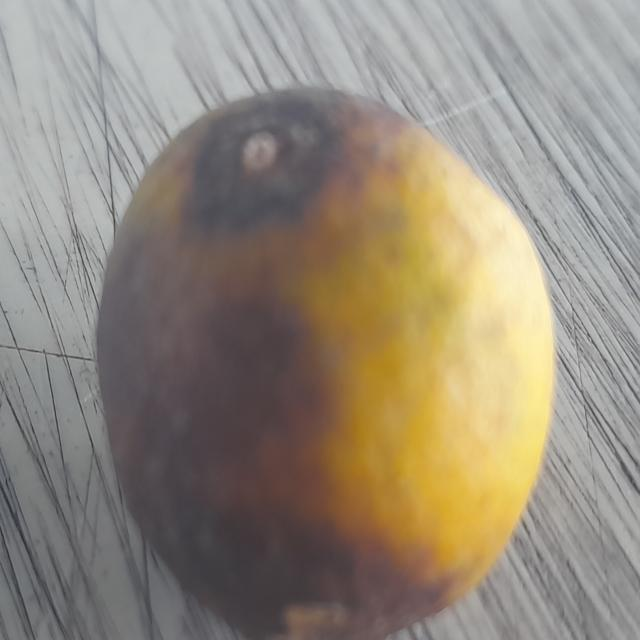black spot: (87, 67, 563, 640)
